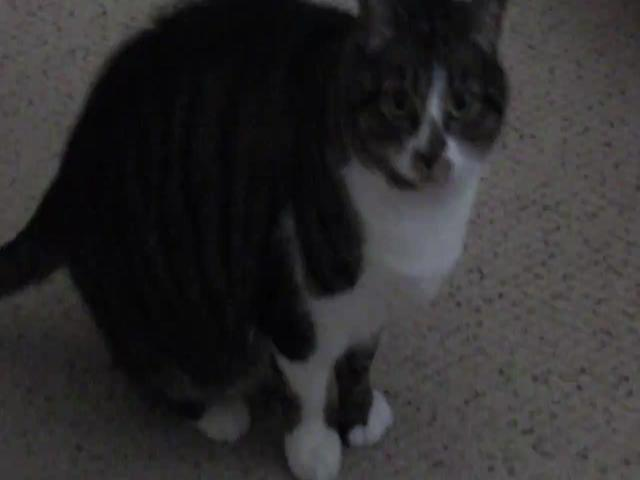playdoh: (1, 2, 517, 480)
